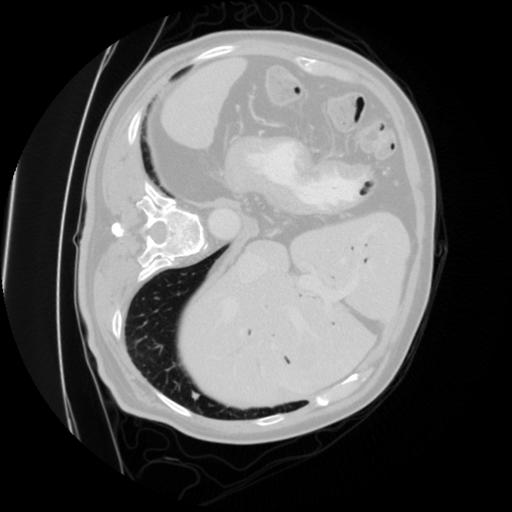nodule: (189, 390, 204, 405)
